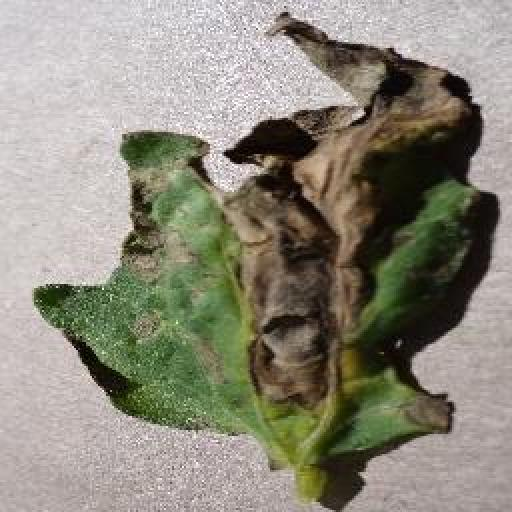Early Blight: (31, 13, 498, 503)
